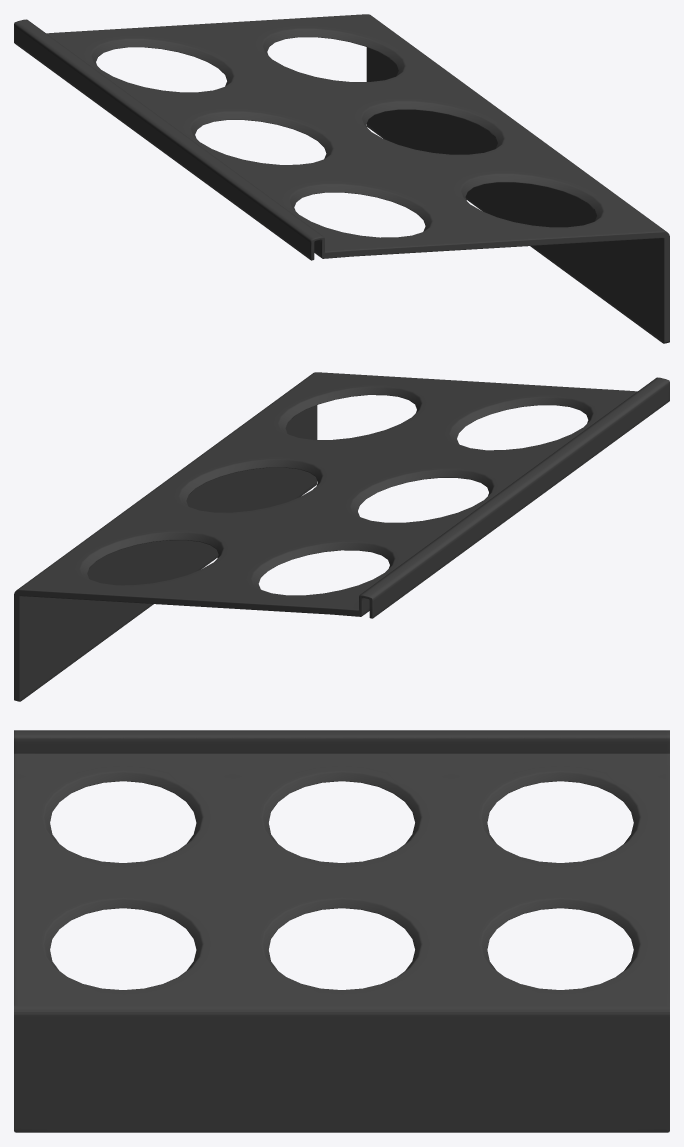
File: SM_Fridge_Egg_Tray.dae
3 renders of one model, top to bottom at view 1: azimuth 30°, elevation 25°; view 2: azimuth 150°, elevation 25°; view 3: azimuth 270°, elevation 25°, orthographic. The views are drawn at different scales.
Visible parts, largest first — view 1: SM_Fridge_Egg_Tray; view 2: SM_Fridge_Egg_Tray; view 3: SM_Fridge_Egg_Tray.
Boxes of the visible parts, <box> form: SM_Fridge_Egg_Tray: <box>14,14,669,343</box>; SM_Fridge_Egg_Tray: <box>14,372,669,701</box>; SM_Fridge_Egg_Tray: <box>14,730,669,1132</box>.
Size of the model in its own units: 0.103 by 0.148 by 0.0524.
Materials: 1 (1 with a texture image).
